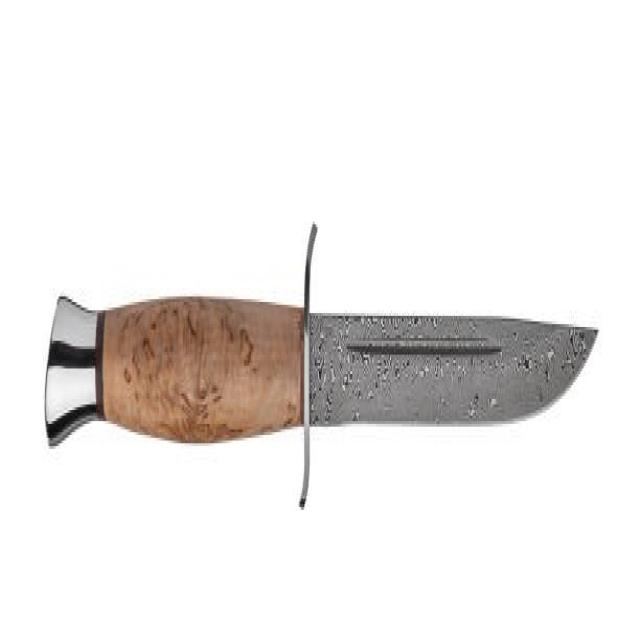knife: (45, 220, 598, 518)
